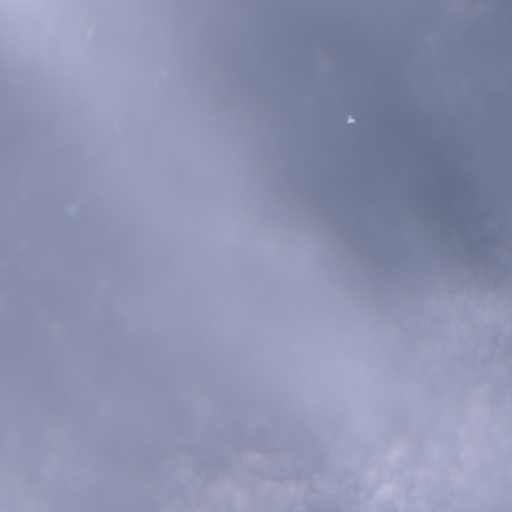Iceberg: (347, 116, 354, 122)
